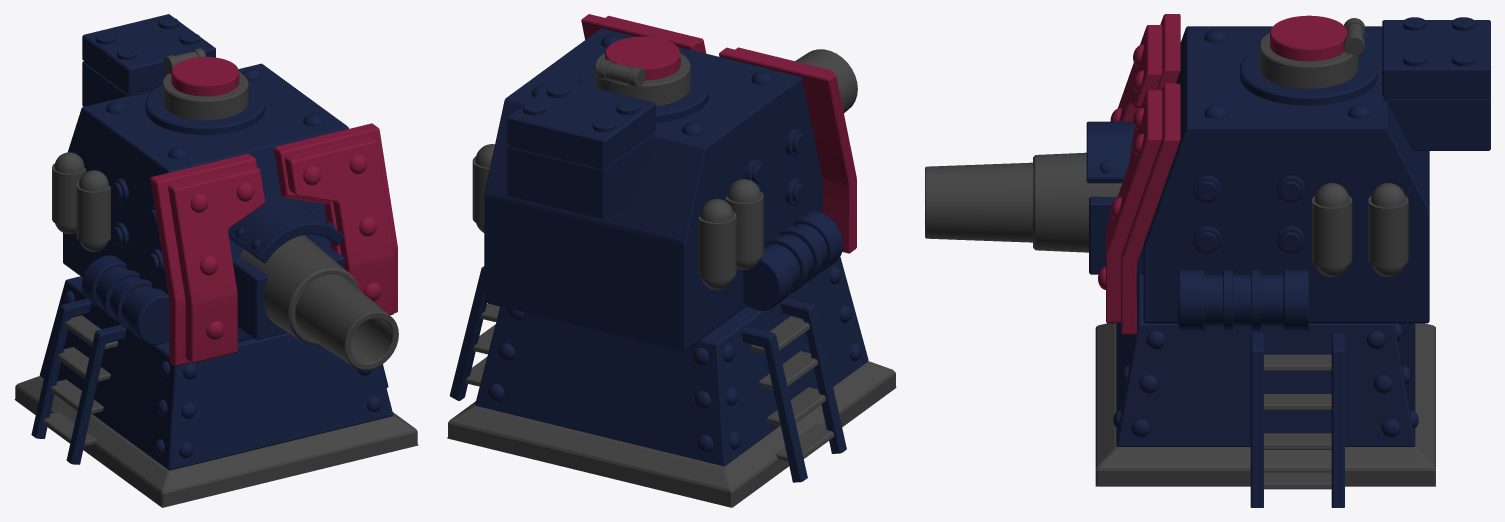
The model's file is canon.fbx.
3 renders of one model, left to right at view 1: azimuth 30°, elevation 25°; view 2: azimuth 150°, elevation 25°; view 3: azimuth 270°, elevation 25°, orthographic. The views are drawn at different scales.
Parts seen in each view (by area): view 1: Box005, Object011, Box006, Object013, Object007, Cylinder011, Box008, Cylinder010, Cylinder012, Object010, Box007, Sphere002 (+11 smaller); view 2: Box006, Box005, Object013, Box008, Object007, Object010, Sphere001, Object009, Object008, Sphere002, Cylinder039, Cylinder019 (+11 smaller); view 3: Box006, Box005, Object013, Box008, Cylinder011, Object011, Object007, Cylinder010, Object015, Sphere044, Sphere043, Cylinder013 (+10 smaller).
Part boxes in pixels (x1,y1,x2,y2): Box005: (39, 276, 393, 470); Object011: (168, 136, 394, 363); Box006: (63, 63, 348, 341); Object013: (14, 376, 418, 507); Object007: (150, 123, 397, 366); Cylinder011: (295, 274, 398, 369); Box008: (82, 14, 215, 106); Cylinder010: (240, 235, 359, 344); Cylinder012: (228, 198, 344, 263); Object010: (43, 315, 118, 446); Box007: (232, 238, 344, 340); Sphere002: (76, 170, 110, 251); Box006: (484, 28, 822, 351); Box005: (475, 257, 868, 466); Object013: (447, 361, 896, 507); Box008: (507, 79, 655, 219); Object007: (581, 14, 856, 253); Object010: (751, 316, 834, 461); Sphere001: (698, 199, 736, 289); Object009: (741, 326, 807, 482); Object008: (780, 298, 846, 453); Sphere002: (725, 179, 763, 269); Cylinder039: (605, 36, 680, 80); Cylinder019: (743, 248, 792, 310); Box006: (1143, 26, 1429, 323); Box005: (1116, 274, 1415, 446); Object013: (1095, 323, 1435, 486); Box008: (1382, 20, 1490, 150); Cylinder011: (925, 162, 1032, 242); Object011: (1106, 25, 1162, 323); Object007: (1121, 14, 1180, 334); Cylinder010: (1033, 152, 1122, 252); Object015: (1264, 354, 1331, 489); Sphere044: (1368, 183, 1408, 277); Sphere043: (1312, 183, 1352, 277); Cylinder013: (1240, 49, 1377, 105).
Bounding box in the file's own units: 240 × 247 × 321.
